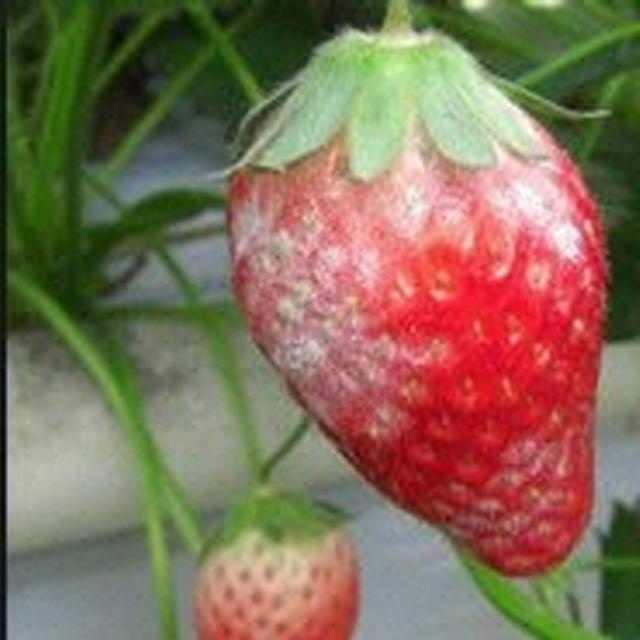Powdery Mildew Fruit: (210, 25, 612, 578)
